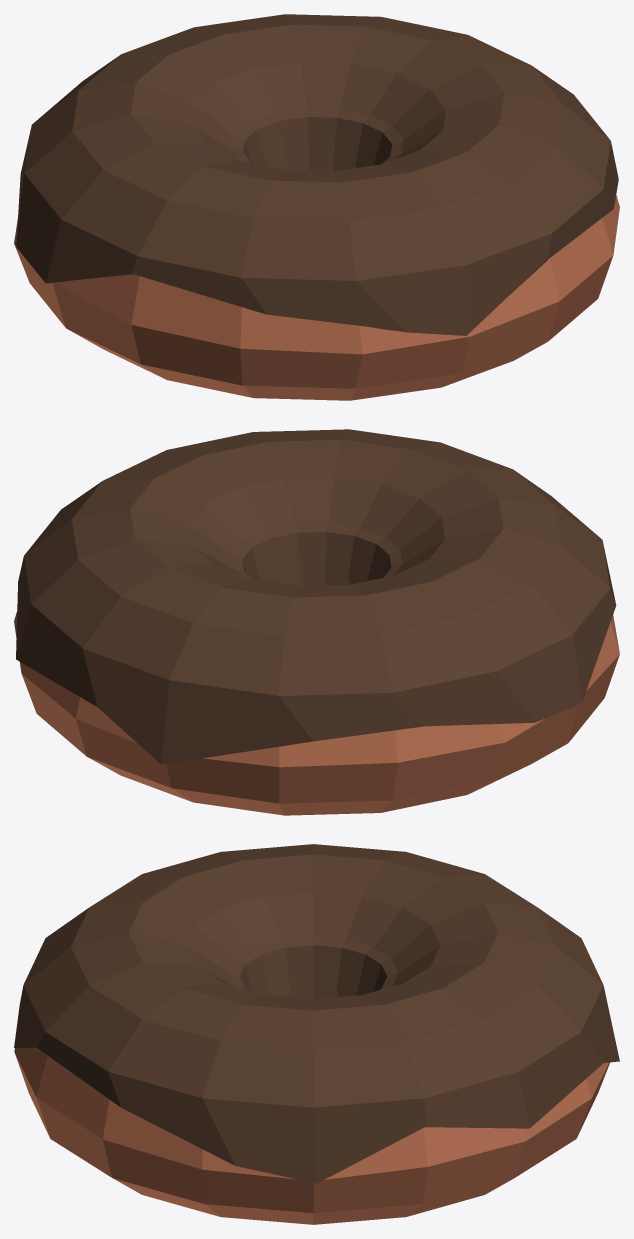
The model's file is Donut_01.fbx.
3 views of the same model, one above another, from view 1: azimuth 30°, elevation 25°; view 2: azimuth 150°, elevation 25°; view 3: azimuth 270°, elevation 25° (orthographic).
Parts seen in each view (by area): view 1: Donut_01; view 2: Donut_01; view 3: Donut_01.
Boxes of the visible parts, <box> form: Donut_01: <box>14,14,619,400</box>; Donut_01: <box>14,429,619,815</box>; Donut_01: <box>14,844,619,1224</box>.
Size of the model in its own units: 15.74 by 5.83 by 15.71.
